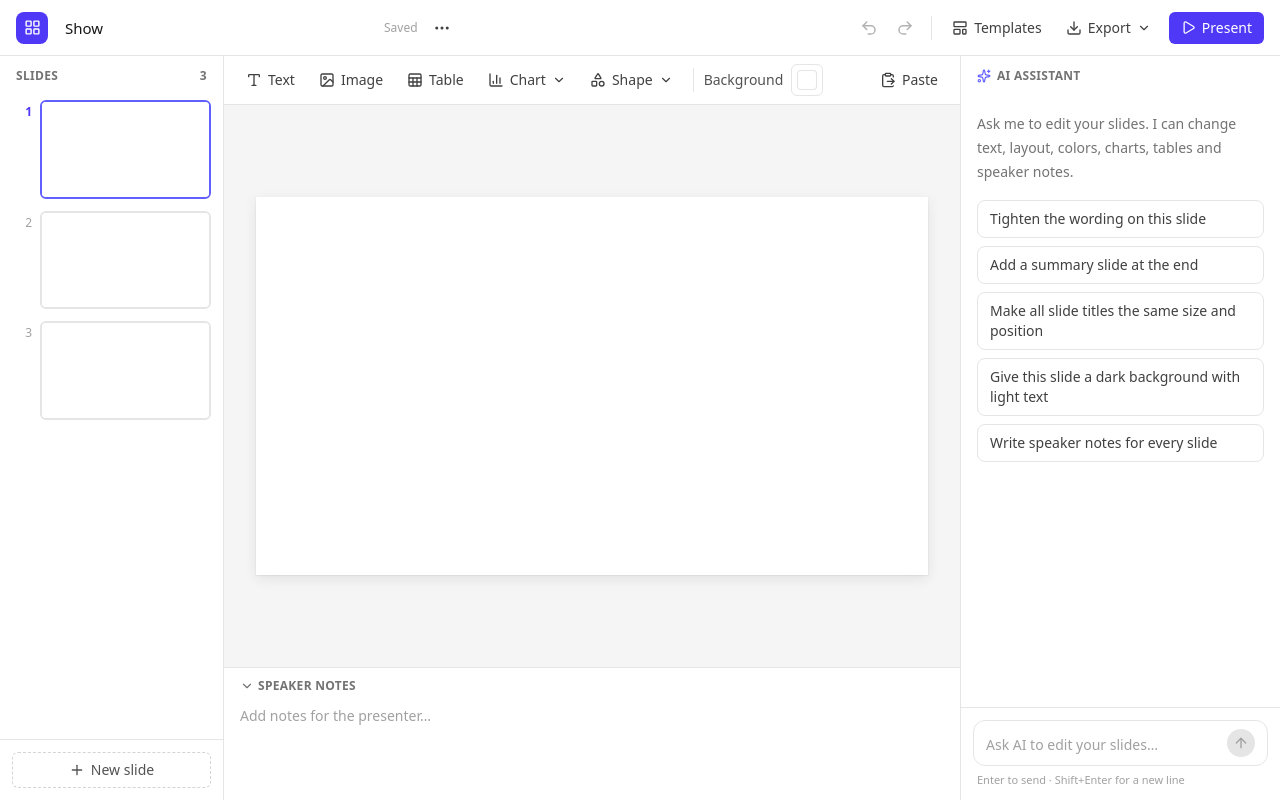
Scenario: Editor: slides and templates › presents from the current slide and returns to the slide where the show ended
The image size is (1280, 800).
expect the field named "Presentation title" is shown: met, box [56, 10, 376, 46]
Click the button named "Slide 2 of 3" at (126, 260), box [40, 210, 211, 309]
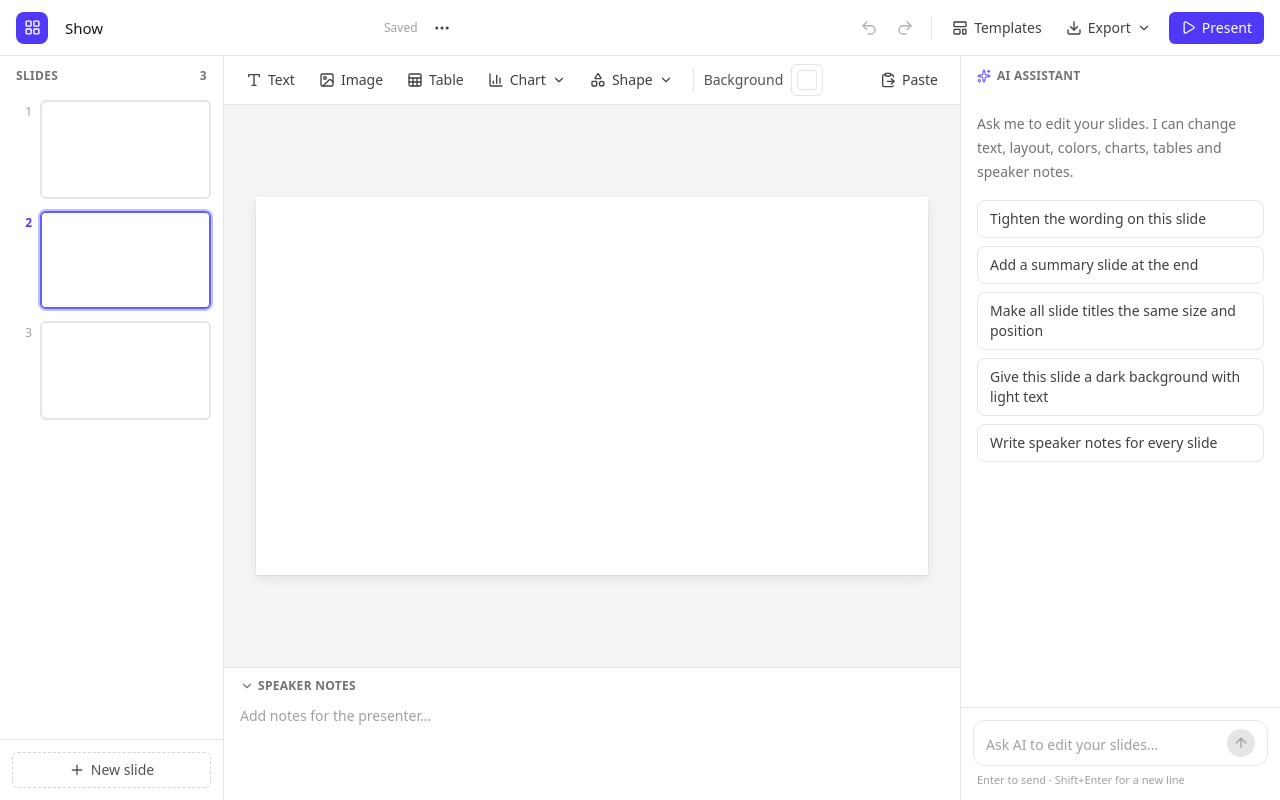
Click the button "Present" at (1216, 28), box [1169, 12, 1264, 44]
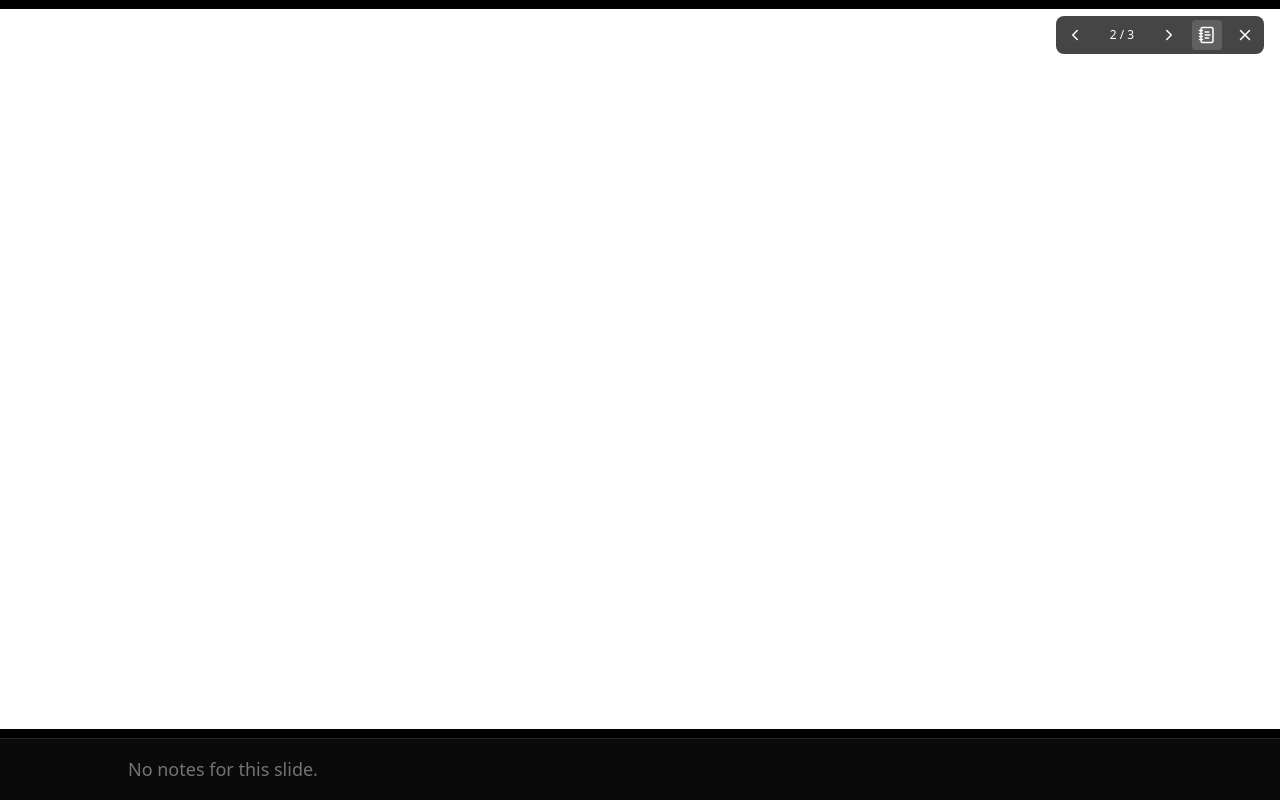
expect the element named "Slide 2 of 3" is shown: met
Press Arrowright
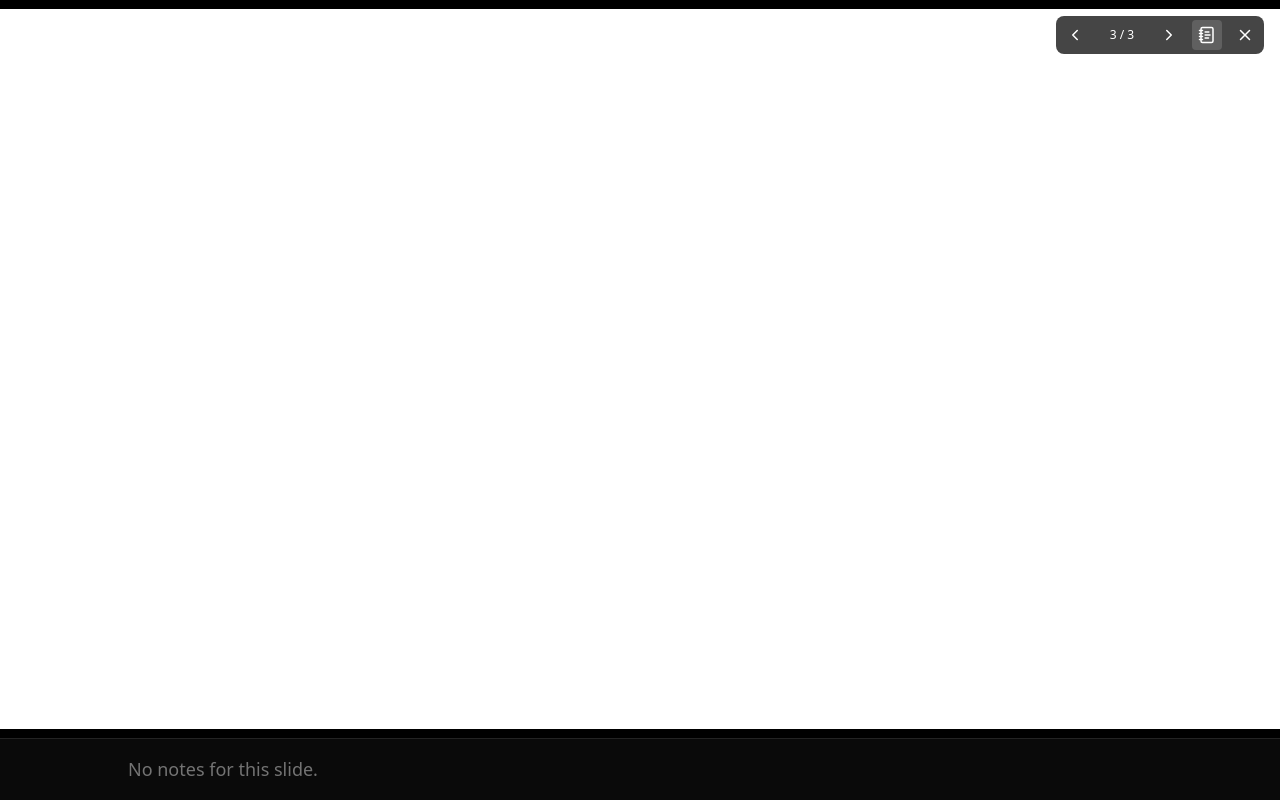
expect the element named "Slide 3 of 3" is shown: met
Press Escape
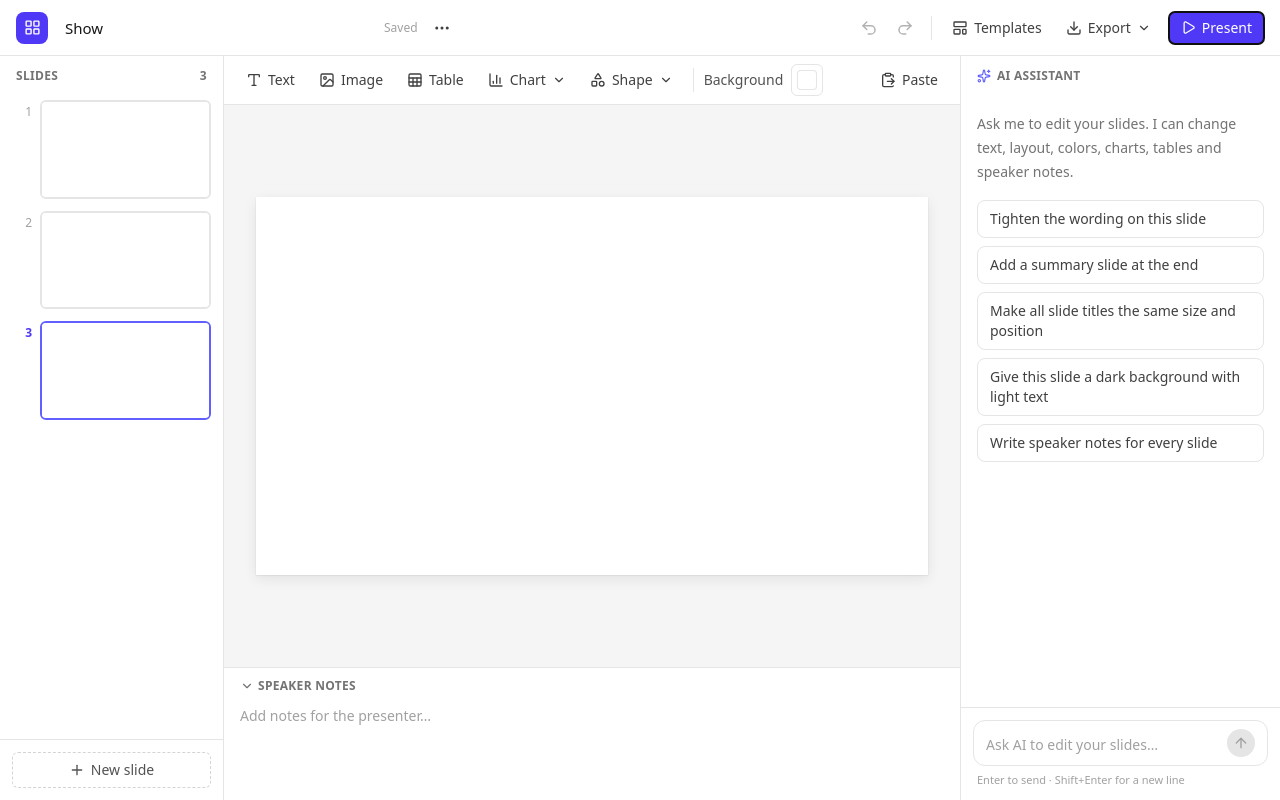
expect the button "Presentation" is gone: met
